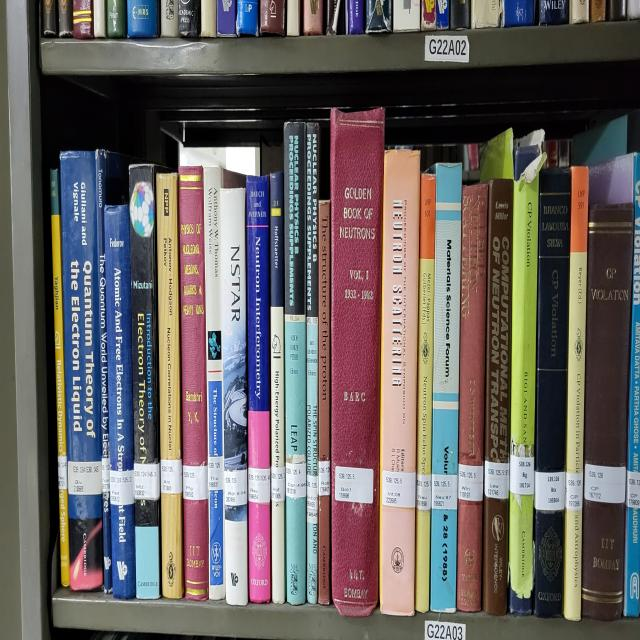Book: (330, 108, 385, 617), (589, 152, 640, 617), (581, 203, 634, 620), (380, 149, 420, 614), (60, 152, 102, 590), (204, 168, 245, 598), (534, 170, 570, 617), (95, 149, 130, 593), (430, 165, 462, 611), (482, 179, 514, 614), (456, 184, 488, 611), (129, 165, 160, 598), (179, 165, 209, 601), (509, 176, 539, 611), (105, 203, 136, 598), (220, 187, 249, 606), (156, 173, 184, 598), (564, 168, 589, 620), (284, 122, 306, 603), (246, 176, 270, 603), (415, 173, 436, 611), (50, 170, 70, 587), (305, 122, 320, 603), (270, 170, 286, 603), (318, 200, 331, 606)
Label: (584, 463, 626, 503), (335, 465, 374, 503), (382, 471, 416, 509), (535, 471, 565, 511), (68, 460, 101, 495), (484, 460, 509, 501), (458, 463, 484, 501), (134, 463, 160, 501), (431, 473, 458, 509), (510, 455, 534, 495), (182, 465, 208, 501), (110, 468, 134, 506), (224, 468, 248, 506), (160, 460, 182, 495), (249, 468, 270, 503), (286, 463, 306, 498), (565, 471, 582, 511), (306, 473, 318, 525), (416, 473, 431, 511), (271, 465, 285, 503), (626, 471, 640, 509), (208, 457, 224, 490), (319, 460, 330, 498), (58, 455, 68, 490), (101, 457, 110, 495)
